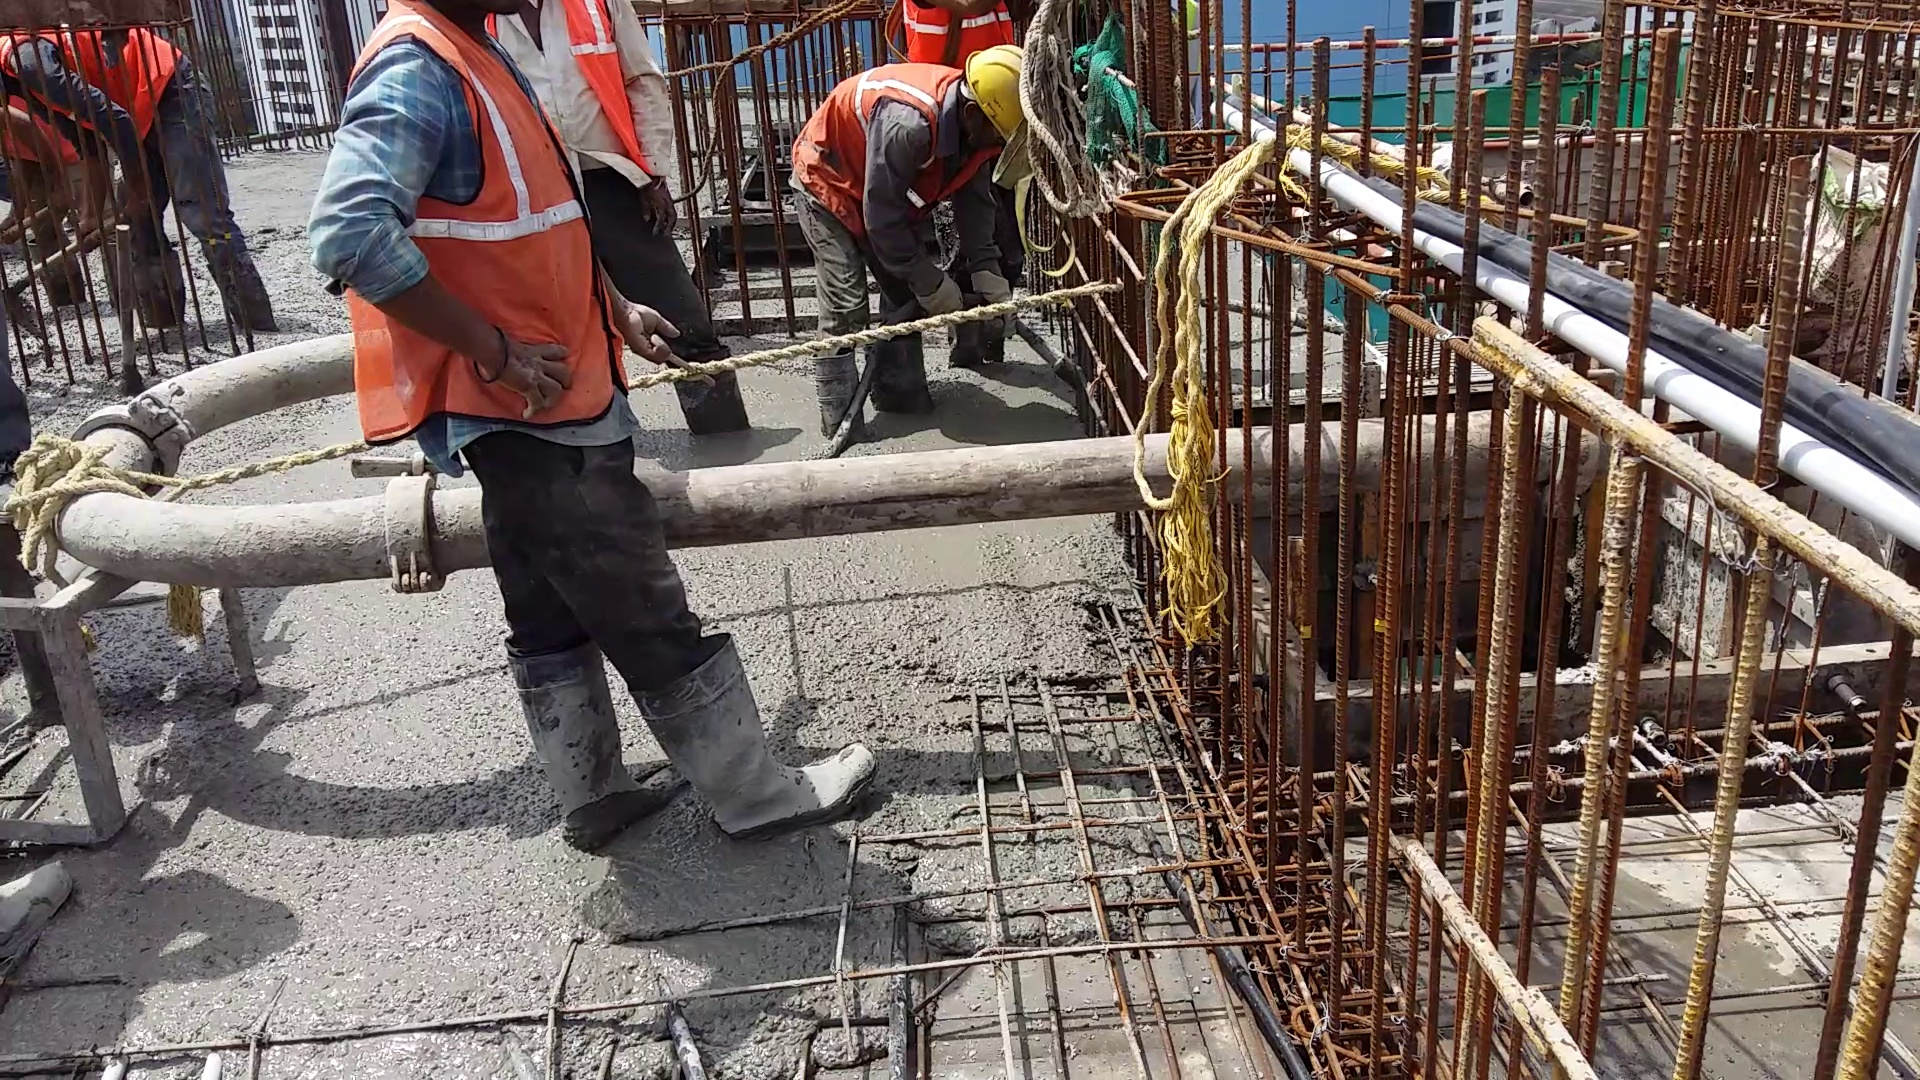SAFE: (791, 40, 1030, 225)
